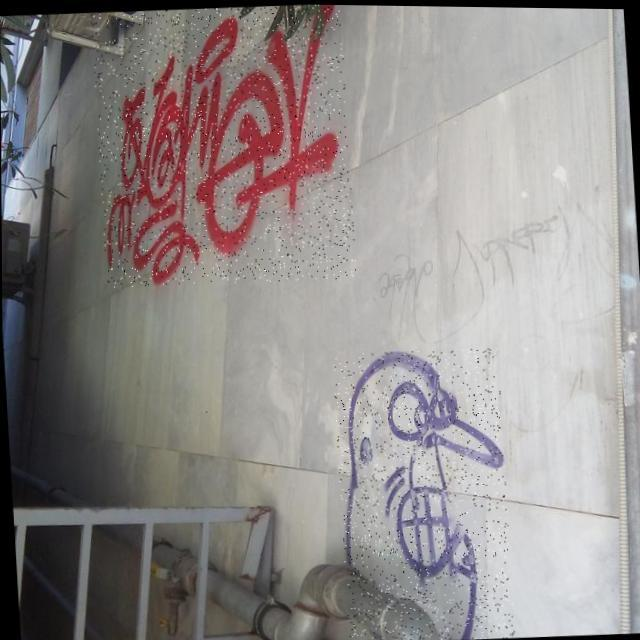-: (90, 1, 356, 290), (332, 345, 514, 640)
